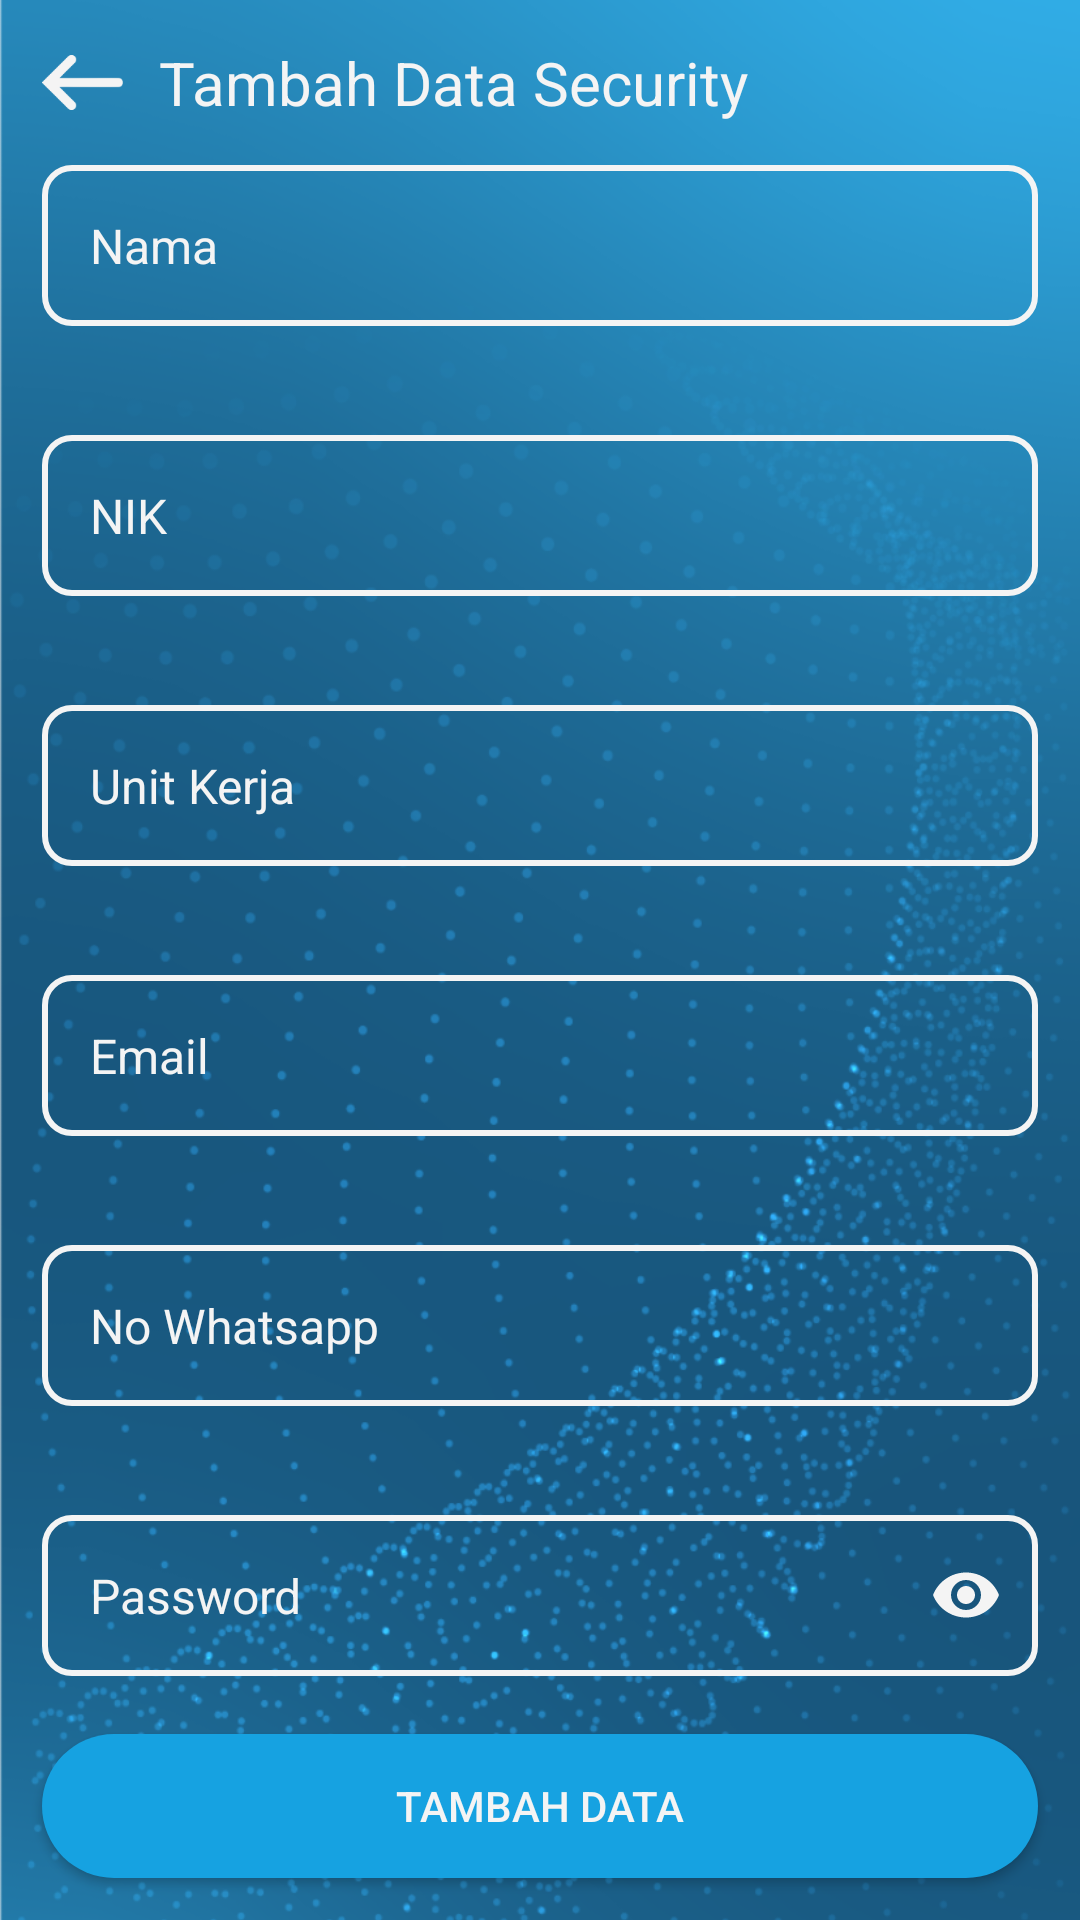

Where to tap for icons on this 1080px×1920px app screen, as (x,y):
back: (82,82)
